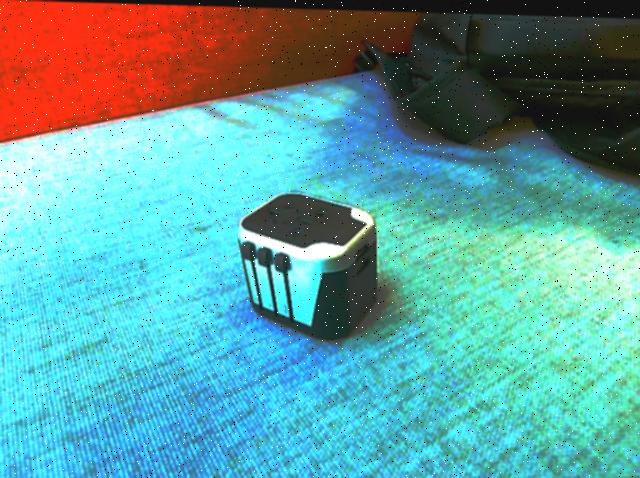adapter: (236, 188, 378, 339)
